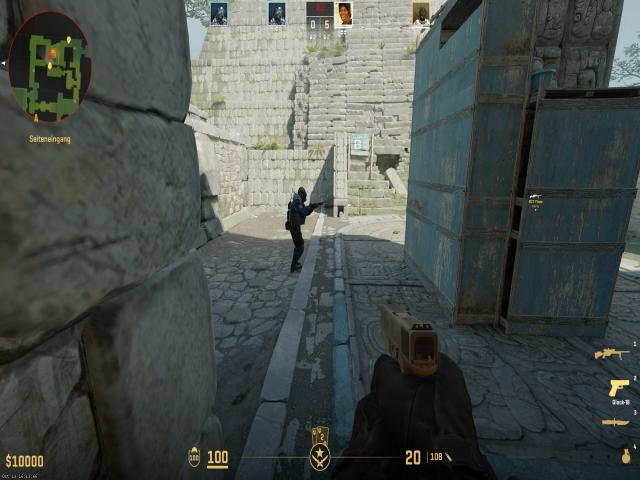CT: (280, 183, 318, 276)
CT-Head: (294, 186, 308, 208), (391, 226, 401, 238)
